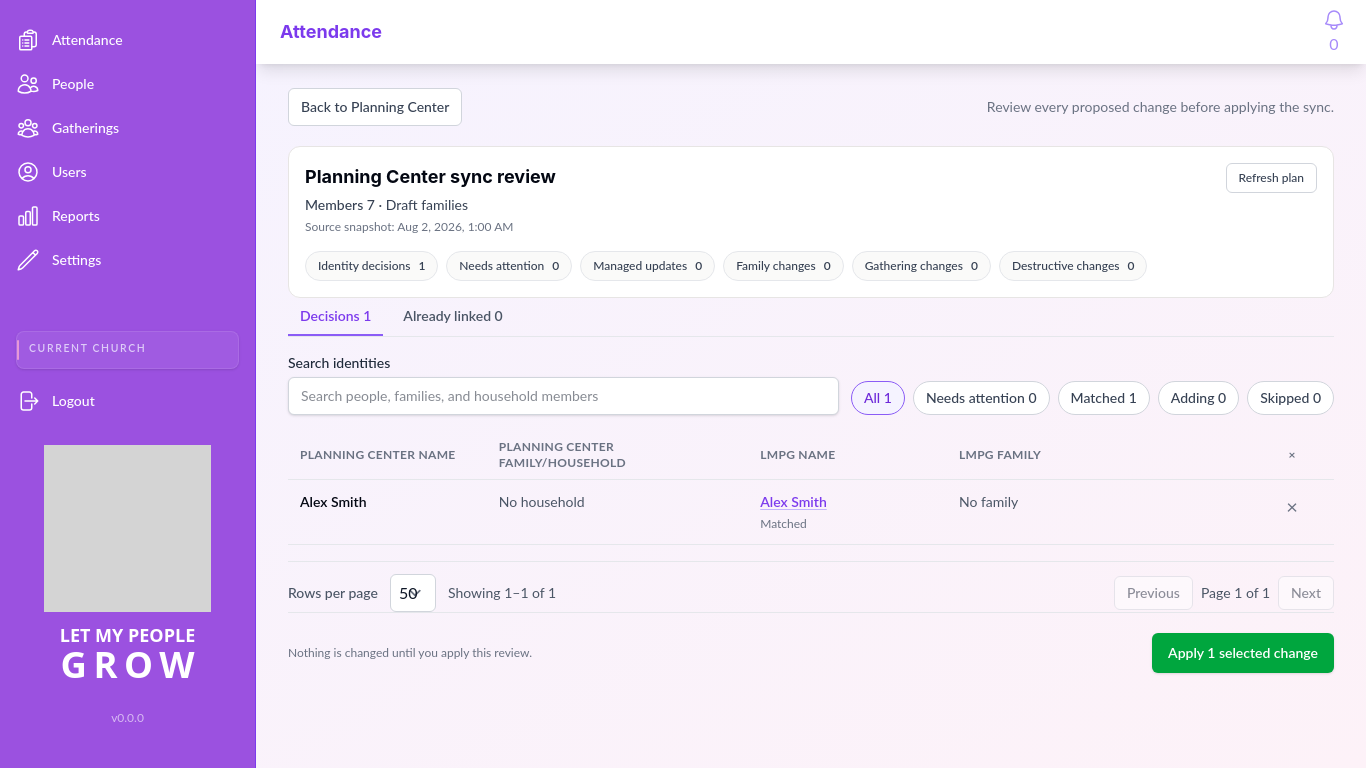
PeopleSyncBatchReviewPage › keeps a stale apply on the review and requires an explicit refresh
Expected: the heading "Planning Center sync review" is shown, [305, 163, 556, 191]
Click the button "Apply 1 selected change".
click(1243, 653)  # box [1152, 633, 1334, 673]
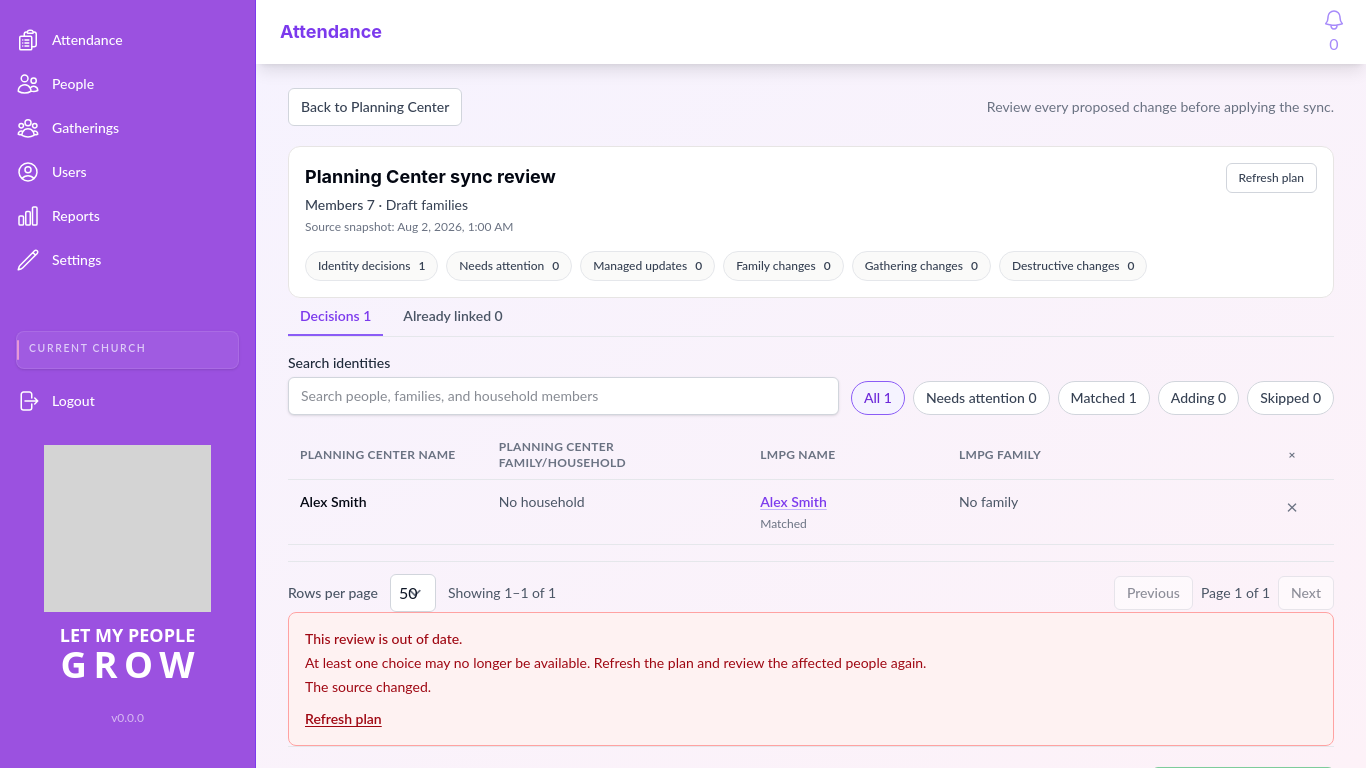
Expected: the button "Refresh plan" in the row of "Planning Center sync review" is shown, [1226, 163, 1317, 193]
Now the text "This review is out of date." is shown, box [305, 630, 462, 647]
